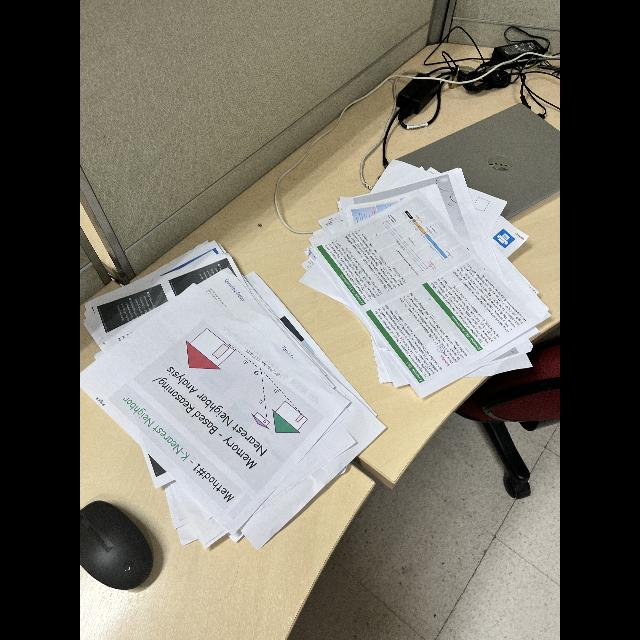reuseable_paper: (80, 233, 392, 552), (292, 154, 550, 398)
